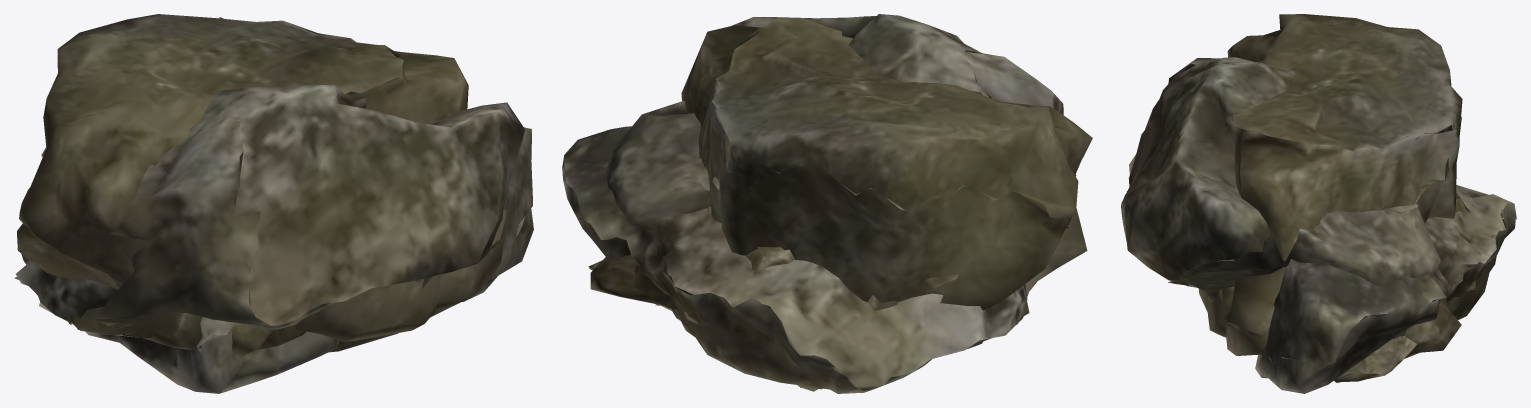
The model's file is rocks.glb.
3 renders of one model, left to right at view 1: azimuth 30°, elevation 25°; view 2: azimuth 150°, elevation 25°; view 3: azimuth 270°, elevation 25°, orthographic. The views are drawn at different scales.
Parts seen in each view (by area): view 1: rock_rock_4, rock_rock_6, rock_rock_3, rock_rock_0, rock_rock_5; view 2: rock_rock_6, rock_rock_3, rock_rock_4, rock_rock_5; view 3: rock_rock_6, rock_rock_4, rock_rock_3, rock_rock_5, rock_rock_2, rock_rock_0.
Boxes of the visible parts, left/top/right/bottom form: rock_rock_4: left=93, top=84, right=525, bottom=330; rock_rock_6: left=17, top=14, right=506, bottom=352; rock_rock_3: left=14, top=127, right=533, bottom=393; rock_rock_0: left=68, top=259, right=440, bottom=349; rock_rock_5: left=232, top=294, right=340, bottom=359; rock_rock_6: left=681, top=18, right=1092, bottom=391; rock_rock_3: left=562, top=126, right=1027, bottom=393; rock_rock_4: left=605, top=14, right=1087, bottom=310; rock_rock_5: left=590, top=246, right=795, bottom=324; rock_rock_6: left=1224, top=14, right=1462, bottom=355; rock_rock_4: left=1121, top=57, right=1440, bottom=339; rock_rock_3: left=1255, top=179, right=1516, bottom=393; rock_rock_5: left=1355, top=179, right=1477, bottom=358; rock_rock_2: left=1331, top=336, right=1417, bottom=382; rock_rock_0: left=1198, top=183, right=1426, bottom=337.
Bounding box in the file's own units: 2.41 × 1.29 × 1.89.
Materials: 3 (3 with a texture image).
